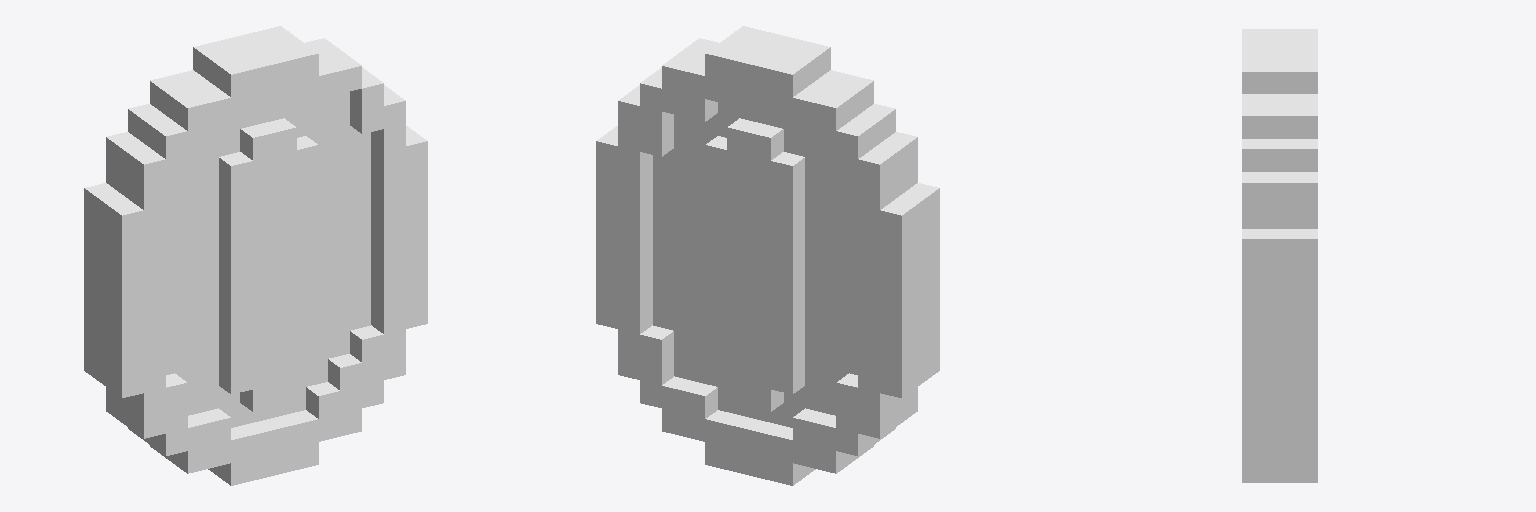
Rendered from coin-v01.obj.
3 views of the same model, side by side, from view 1: azimuth 30°, elevation 25°; view 2: azimuth 150°, elevation 25°; view 3: azimuth 270°, elevation 25° (orthographic).
Parts seen in each view (by area): view 1: object 1; view 2: object 1; view 3: object 1.
Boxes of the visible parts, x1,y1,x2,y2 form: object 1: [84, 26, 427, 485]; object 1: [596, 26, 939, 485]; object 1: [1242, 29, 1317, 482].
Bounding box in the file's own units: 1.4 × 1.8 × 0.3.